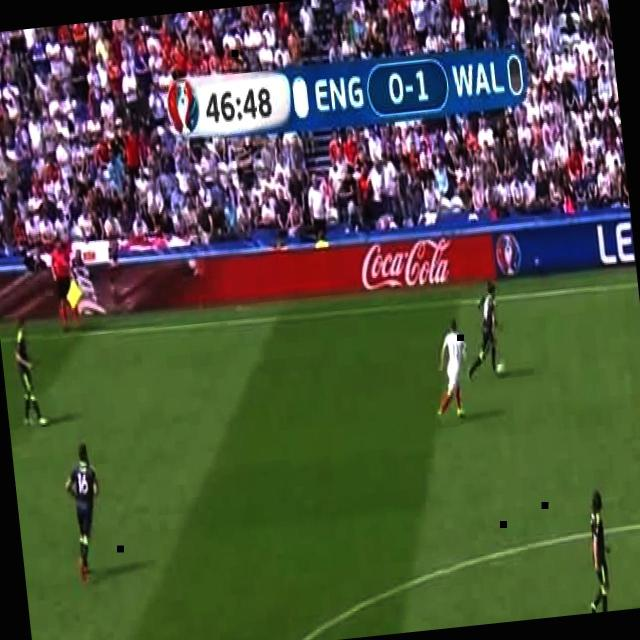ball: (496, 364, 504, 374)
player-white: (62, 442, 109, 582), (427, 319, 475, 420), (577, 489, 615, 613), (459, 282, 505, 380), (12, 319, 48, 427), (50, 236, 78, 334)
